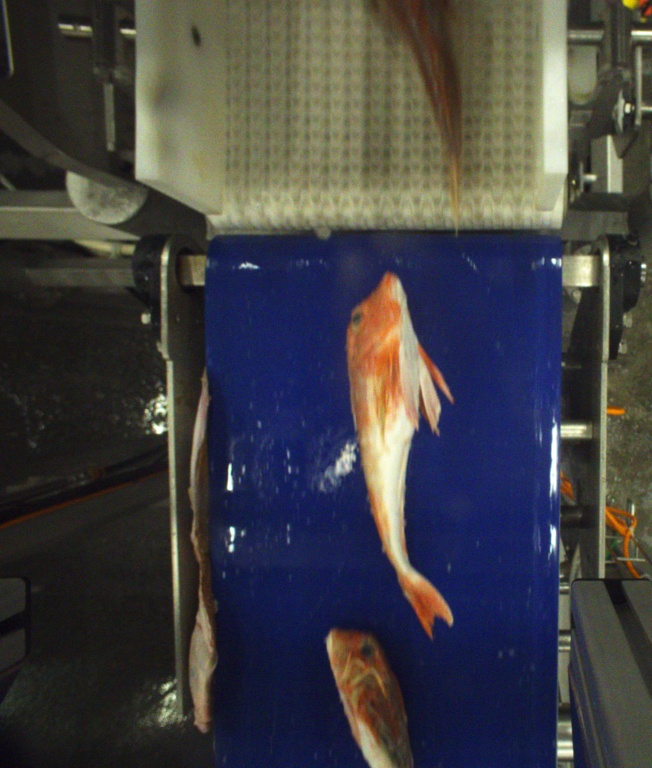GUU: (376, 0, 460, 241)
